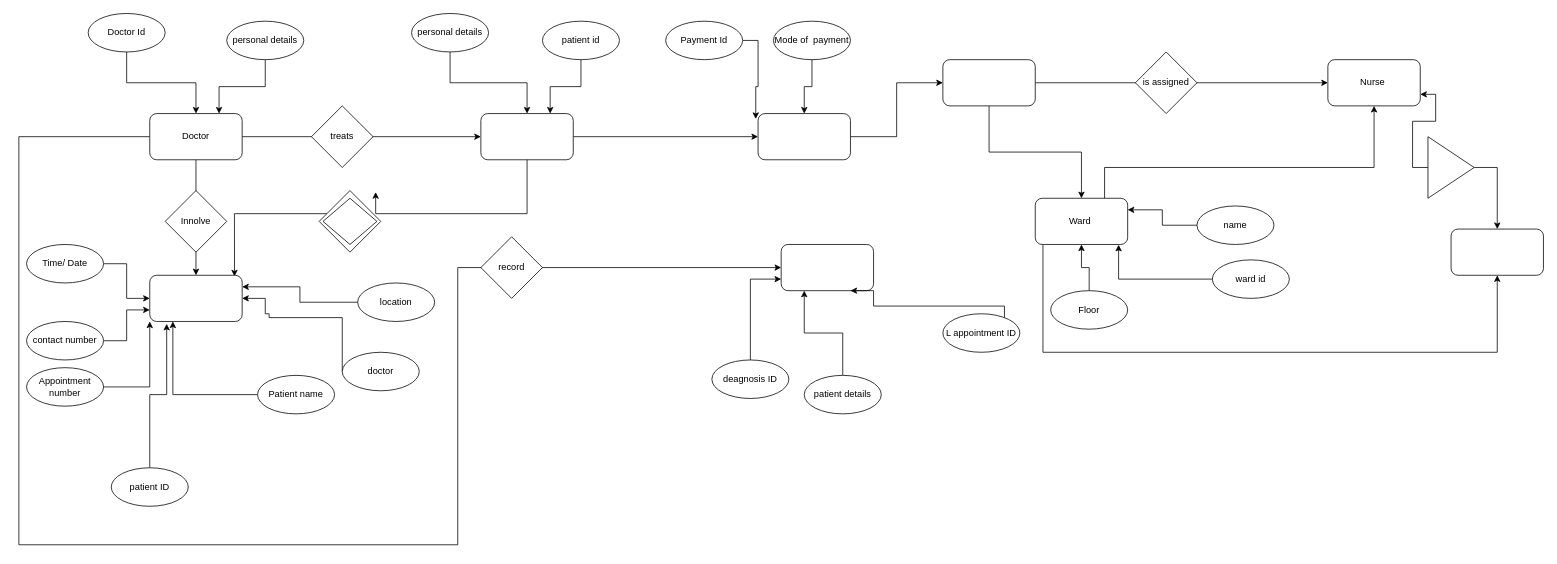
The diagram is 1557 pixels wide and 564 high, and some of its shapes have lost their labels. Each missing label, with the centre of its shape:
"Admitted patient" goes at (x=988, y=82).
"Appointment" goes at (x=195, y=298).
"Diagnosis" goes at (x=827, y=267).
"head Nurse" goes at (x=1496, y=251).
"Isa" goes at (x=1450, y=167).
"make" goes at (x=349, y=221).
"Patien" goes at (x=526, y=136).
"payment" goes at (x=803, y=136).
